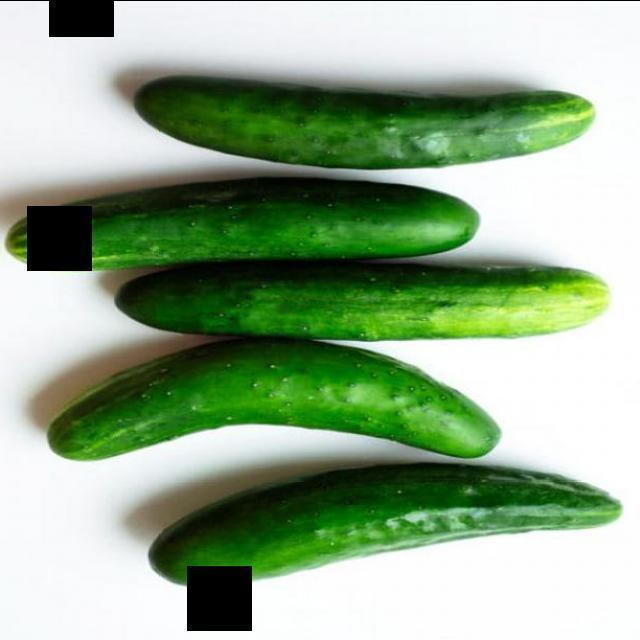cucumber: (142, 466, 632, 601), (41, 341, 505, 462), (128, 70, 602, 174), (0, 174, 485, 272), (108, 258, 616, 340)
